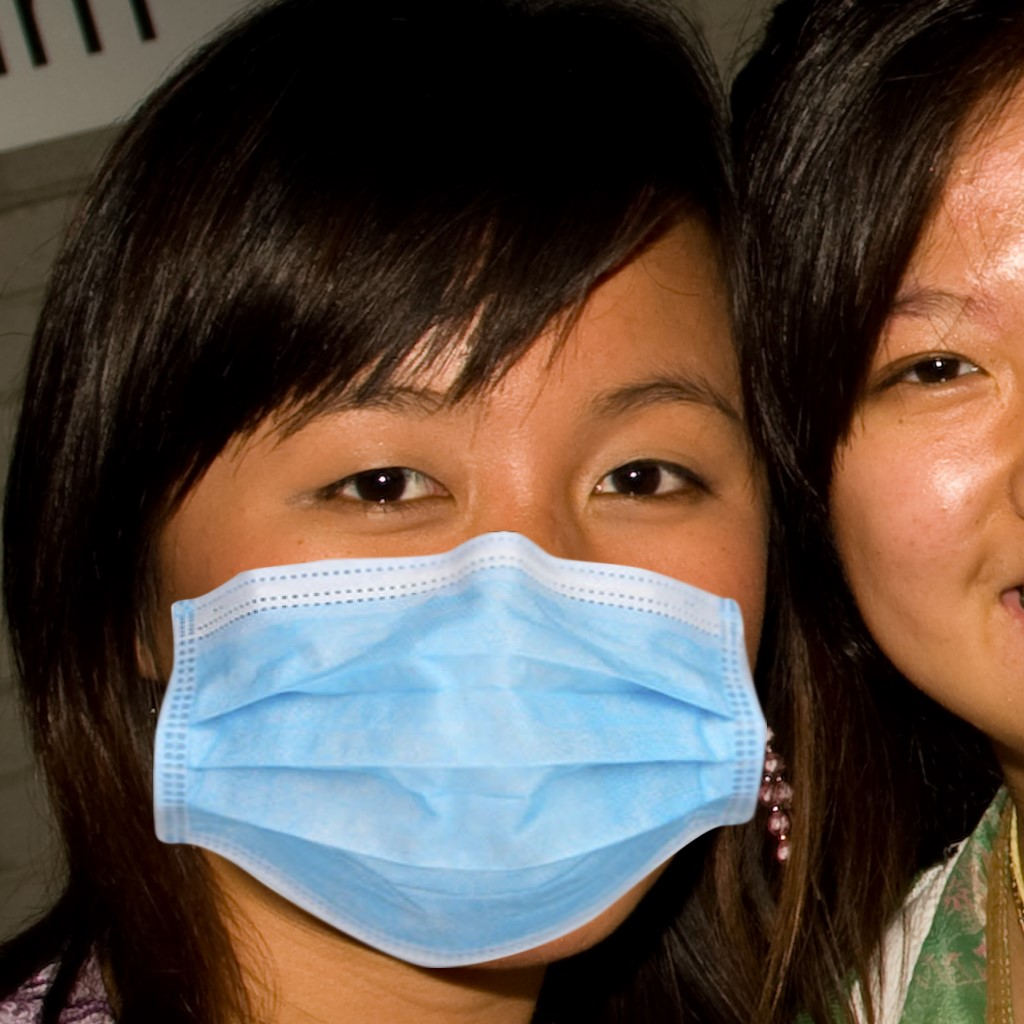con_mascara: (188, 231, 774, 960)
